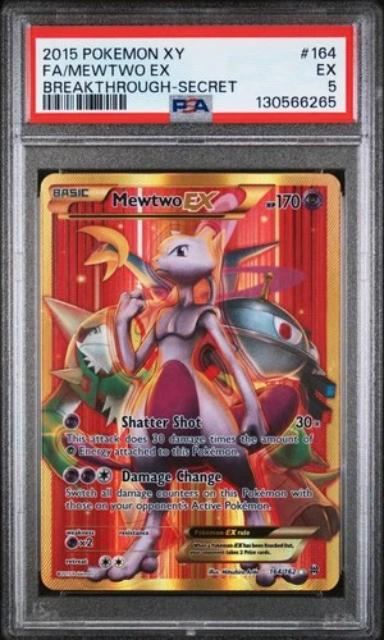Card: (37, 168, 344, 593)
Name: (106, 186, 218, 212)
